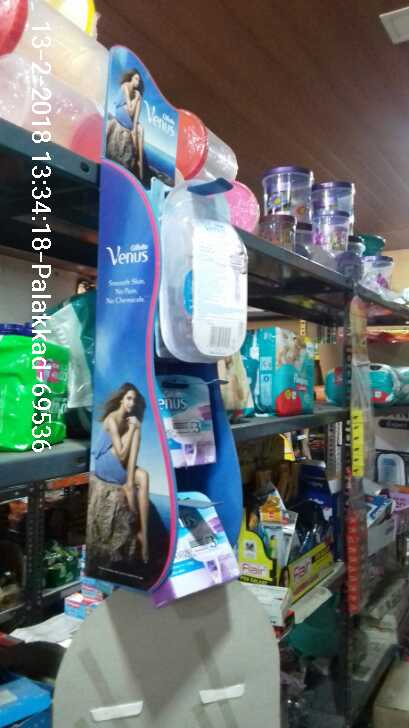beauty: (158, 488, 235, 601), (155, 376, 216, 473)
pharmacy: (249, 325, 320, 412)
